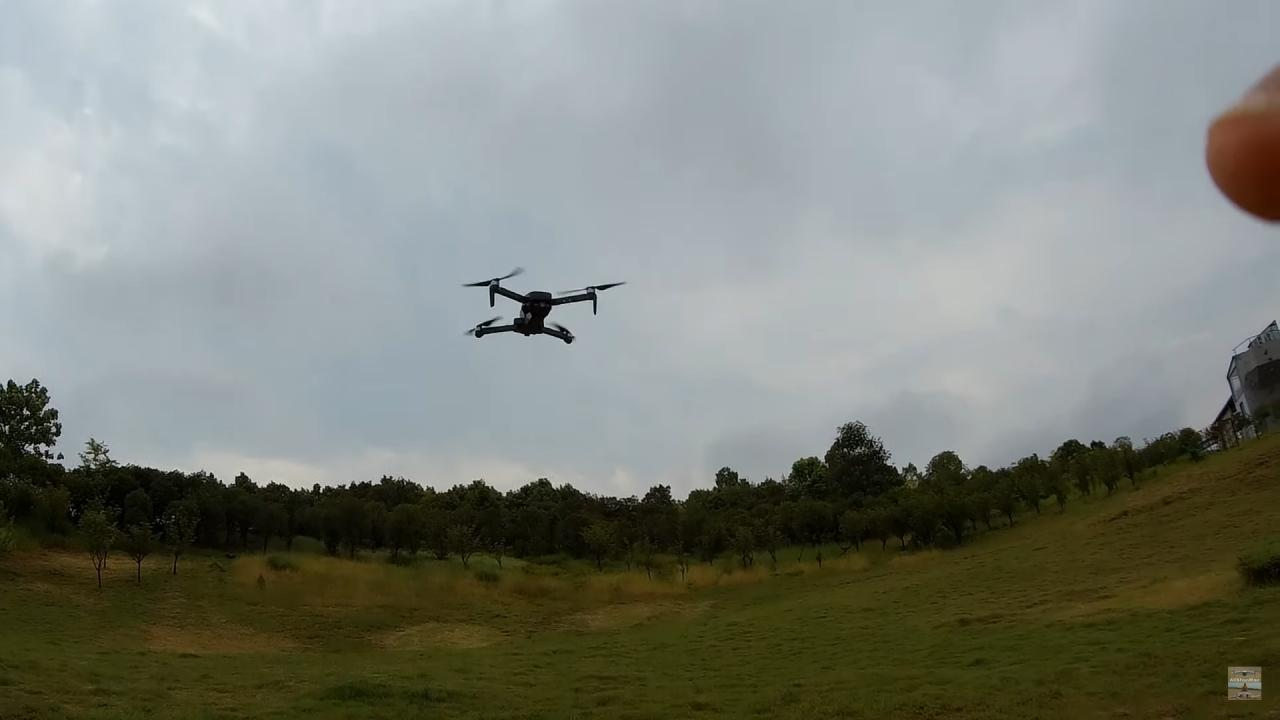Drone: (450, 255, 637, 355)
